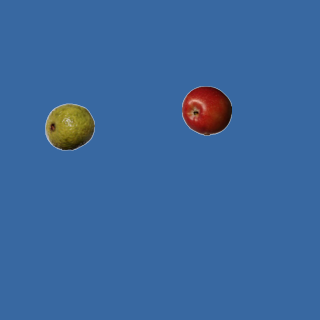Apple Braeburn: (181, 85, 231, 135)
Guava: (44, 101, 94, 151)
